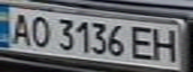1: (72, 18, 90, 54)
3: (51, 16, 75, 52), (90, 20, 109, 56)
6: (106, 21, 130, 59)
A: (6, 10, 36, 46)
E: (127, 24, 160, 62)
H: (148, 25, 184, 63)
O: (27, 14, 54, 48)
